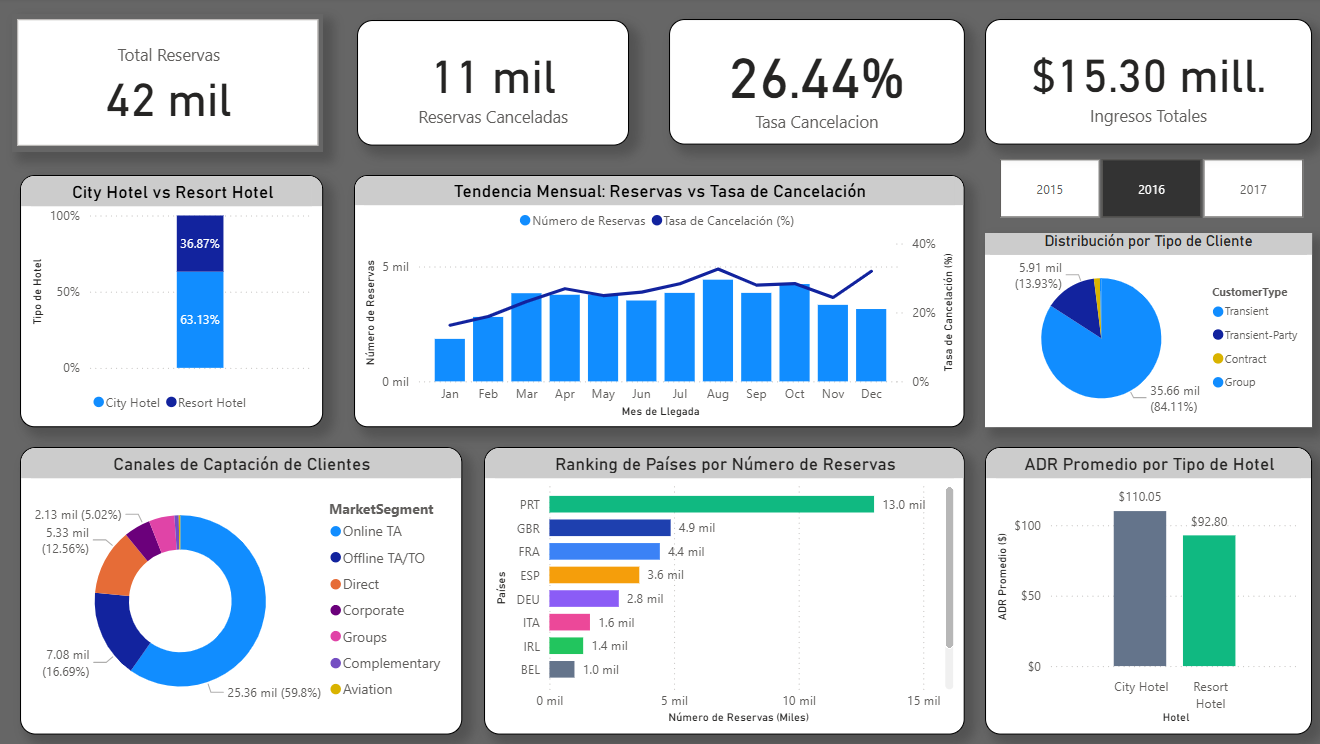

The page's visual inventory and layout, read from the dashboard file:
{"tool":"powerbi","page":{"name":"Página 1","canvas":[1280,720],"ordinal":0},"visuals":[{"type":"slicer","fields":{"Values":["Dataset.ArrivalDateYear"]},"box":[937.8,148.2,342.2,70.2],"z":0},{"type":"lineClusteredColumnComboChart","title":"Tendencia Mensual: Reservas vs Tasa de Cancelación","fields":{"Y":["CountNonNull(Dataset.Hotel)"],"Category":["Dataset.ArrivalDateMonthAbreviado"],"Y2":["Dataset.Tasa Cancelacion"]},"box":[342.2,170.6,587.8,242.7],"z":1000},{"type":"card","fields":{"Values":["Dataset.Reservas Canceladas"]},"box":[345.1,21.4,262.2,120.9],"z":2000},{"type":"cardVisual","fields":{"Data":["Dataset.Total Reservas"]},"box":[12.7,15.6,300.3,132.6],"z":3000},{"type":"card","fields":{"Values":["Dataset.Tasa Cancelacion"]},"box":[645.4,20.5,284.7,120.9],"z":4000},{"type":"card","fields":{"Values":["Dataset.Ingresos Totales"]},"box":[949.5,20.5,314.9,120.9],"z":5000},{"type":"hundredPercentStackedColumnChart","title":"City Hotel vs Resort Hotel","fields":{"Y":["Dataset.City Hotel","Dataset.Resort Hotel"]},"box":[20.5,170.6,292.5,242.7],"z":6000},{"type":"donutChart","title":"Canales de Captación de Clientes","fields":{"Category":["Dataset.MarketSegment"],"Y":["CountNonNull(Dataset.Hotel)"]},"box":[20.2,432.4,425.7,277.4],"z":7000},{"type":"clusteredBarChart","title":"Ranking de Países por Número de Reservas","fields":{"Category":["Dataset.Country"],"Y":["CountNonNull(Dataset.Hotel)"]},"box":[467.1,432.4,463.3,277.4],"z":8000},{"type":"pieChart","title":"Distribución por Tipo de Cliente","fields":{"Y":["CountNonNull(Dataset.Hotel)"],"Category":["Dataset.CustomerType"]},"box":[949.6,226.3,314.9,186.8],"z":9000},{"type":"columnChart","title":"ADR Promedio por Tipo de Hotel","fields":{"Category":["Dataset.Hotel"],"Y":["Dataset.ADR Promedio"]},"box":[950,432,315,277],"z":10000}]}

Visuals, with their boxes in screenshot pixels (x1, y1, x2, y2), scaled from the page's 1280x720 canvas onto the 1320x744 screenshot:
slicer - Dataset.ArrivalDateYear: x1=967 y1=153 x2=1319 y2=226
"Tendencia Mensual: Reservas vs Tasa de Cancelación" lineClusteredColumnComboChart: x1=353 y1=176 x2=959 y2=427
card - Dataset.Reservas Canceladas: x1=356 y1=22 x2=626 y2=147
cardVisual - Dataset.Total Reservas: x1=13 y1=16 x2=323 y2=153
card - Dataset.Tasa Cancelacion: x1=666 y1=21 x2=959 y2=146
card - Dataset.Ingresos Totales: x1=979 y1=21 x2=1304 y2=146
"City Hotel vs Resort Hotel" hundredPercentStackedColumnChart: x1=21 y1=176 x2=323 y2=427
"Canales de Captación de Clientes" donutChart: x1=21 y1=447 x2=460 y2=733
"Ranking de Países por Número de Reservas" clusteredBarChart: x1=482 y1=447 x2=959 y2=733
"Distribución por Tipo de Cliente" pieChart: x1=979 y1=234 x2=1304 y2=427
"ADR Promedio por Tipo de Hotel" columnChart: x1=980 y1=446 x2=1305 y2=733
